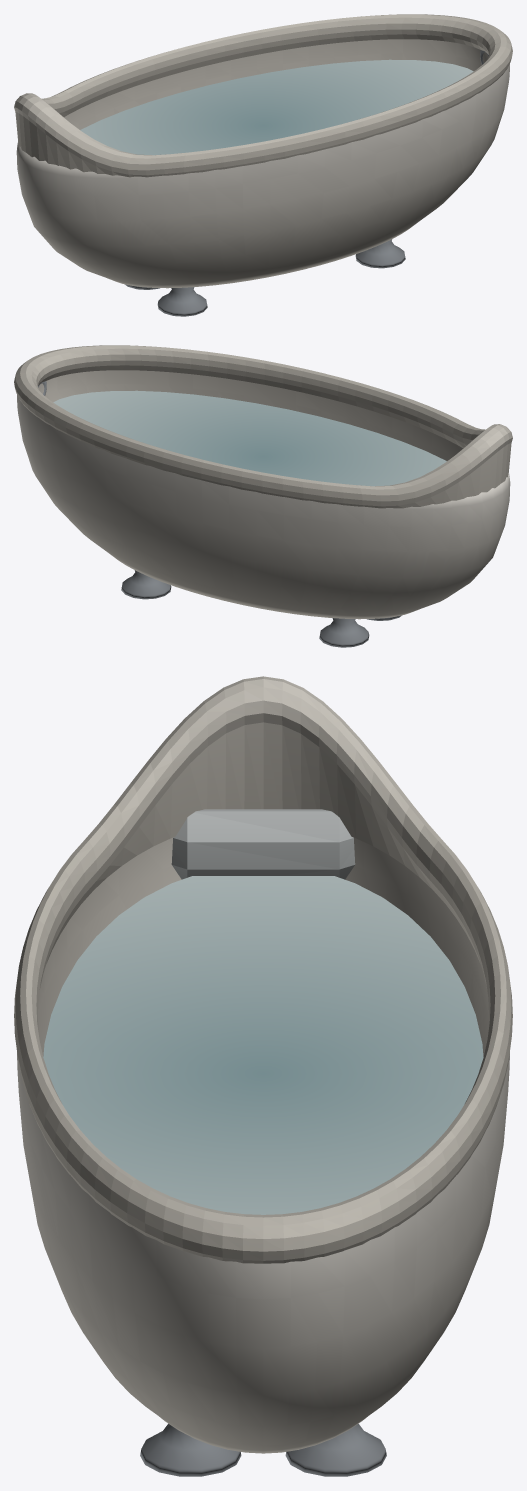
Rendered from freestanding-tub.glb.
3 views of the same model, one above another, from view 1: azimuth 30°, elevation 25°; view 2: azimuth 150°, elevation 25°; view 3: azimuth 270°, elevation 25° (orthographic). The views are drawn at different scales.
Parts seen in each view (by area): view 1: freestanding_tub; view 2: freestanding_tub; view 3: freestanding_tub.
Part boxes in pixels (bbox=[...]): freestanding_tub: bbox=[14, 14, 512, 316]; freestanding_tub: bbox=[14, 345, 512, 647]; freestanding_tub: bbox=[14, 676, 512, 1476].
Bounding box in the file's own units: 1.72 × 0.774 × 0.768.
